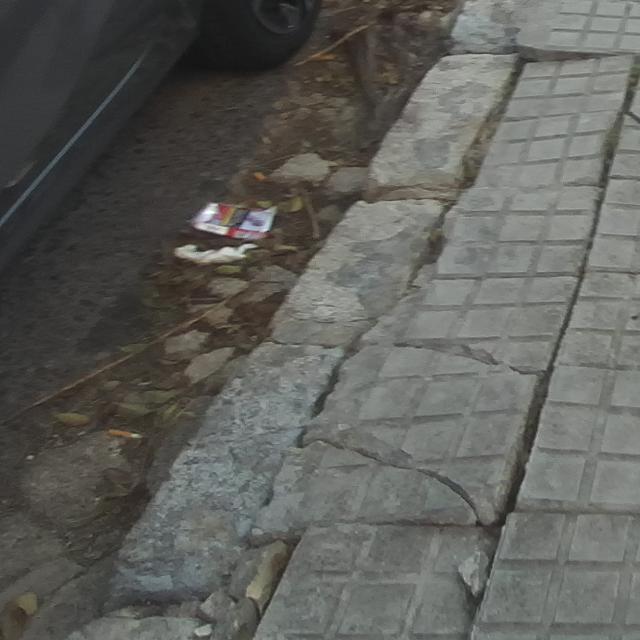calcada_quebrada: (315, 431, 479, 521), (388, 333, 544, 385)
